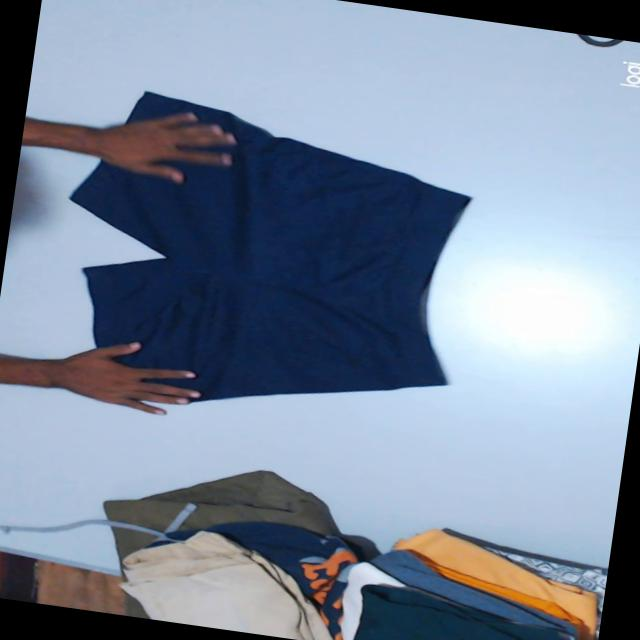new-garment: (72, 92, 470, 399)
